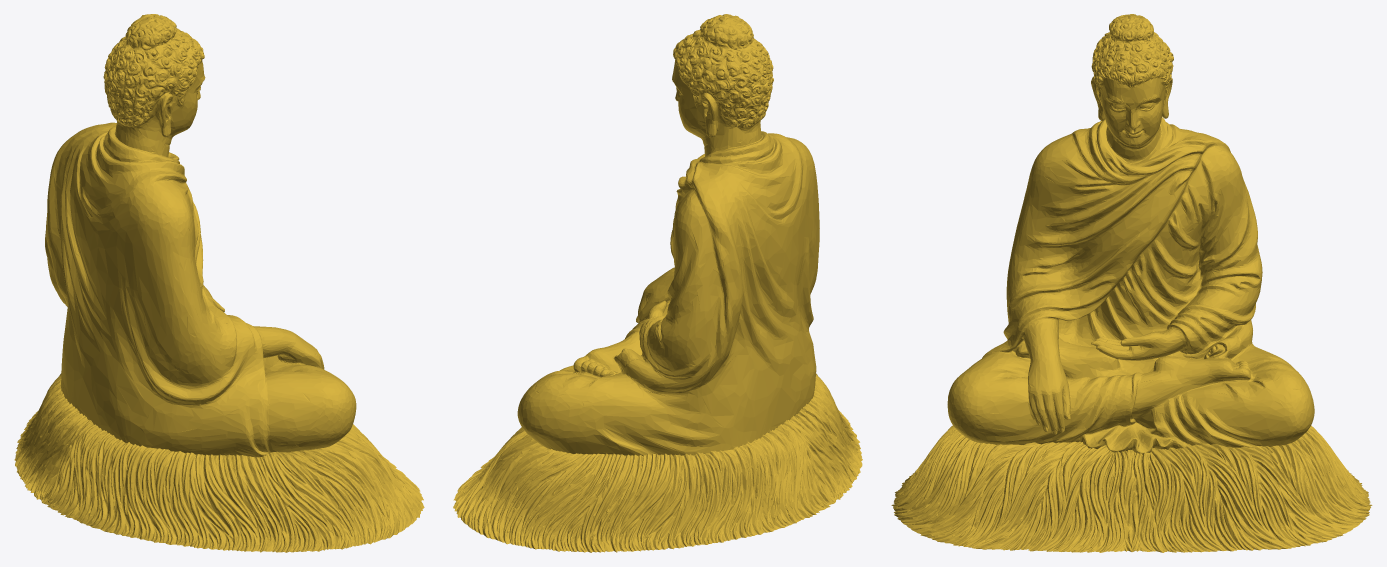
The model's file is buddha.glb.
The picture shows the model from 3 angles, left to right: view 1: azimuth 30°, elevation 25°; view 2: azimuth 150°, elevation 25°; view 3: azimuth 270°, elevation 25°; orthographic projection. The views are drawn at different scales.
Parts seen in each view (by area): view 1: uploads_files_5411442_Bodhi+Buddha; view 2: uploads_files_5411442_Bodhi+Buddha; view 3: uploads_files_5411442_Bodhi+Buddha.
Boxes of the visible parts, x1,y1,x2,y2 form: uploads_files_5411442_Bodhi+Buddha: [14, 14, 424, 552]; uploads_files_5411442_Bodhi+Buddha: [453, 14, 862, 552]; uploads_files_5411442_Bodhi+Buddha: [891, 14, 1372, 552].
Bounding box in the file's own units: 17.73 × 25.4 × 24.98.
